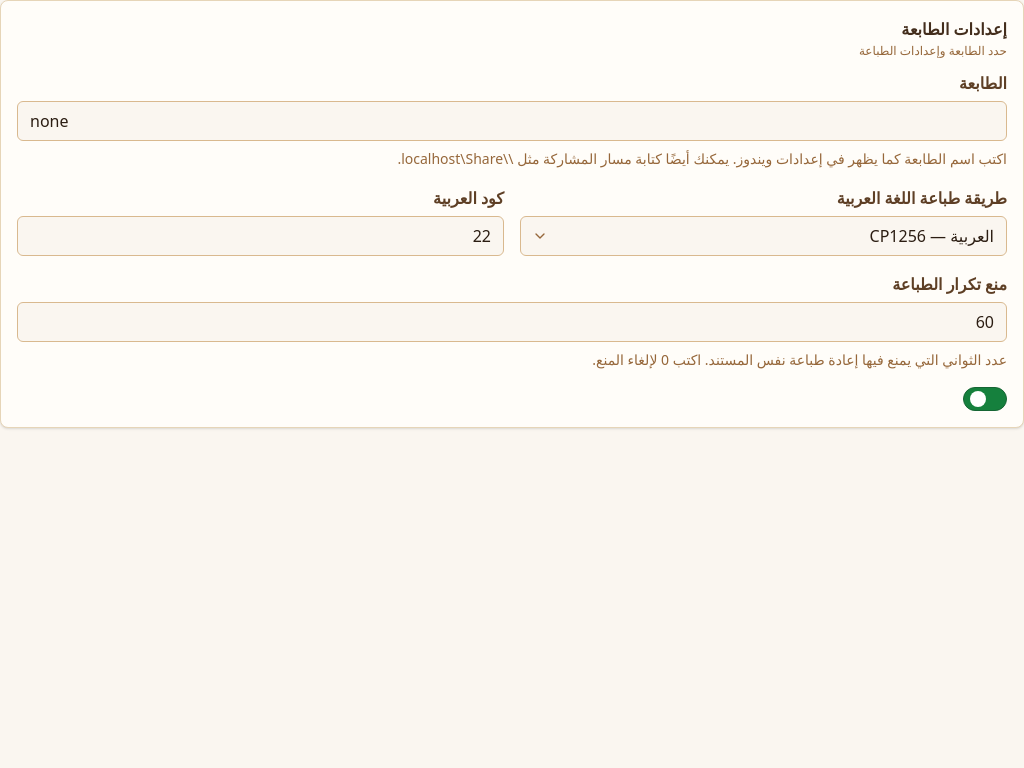
PrinterSettings › reports a refusal and never claims the setting was saved
The width and height of the screenshot is (1024, 768).
Replace the text in the field labelled "الطابعة" with "XP80" at [512, 121], box [17,101,1007,141]
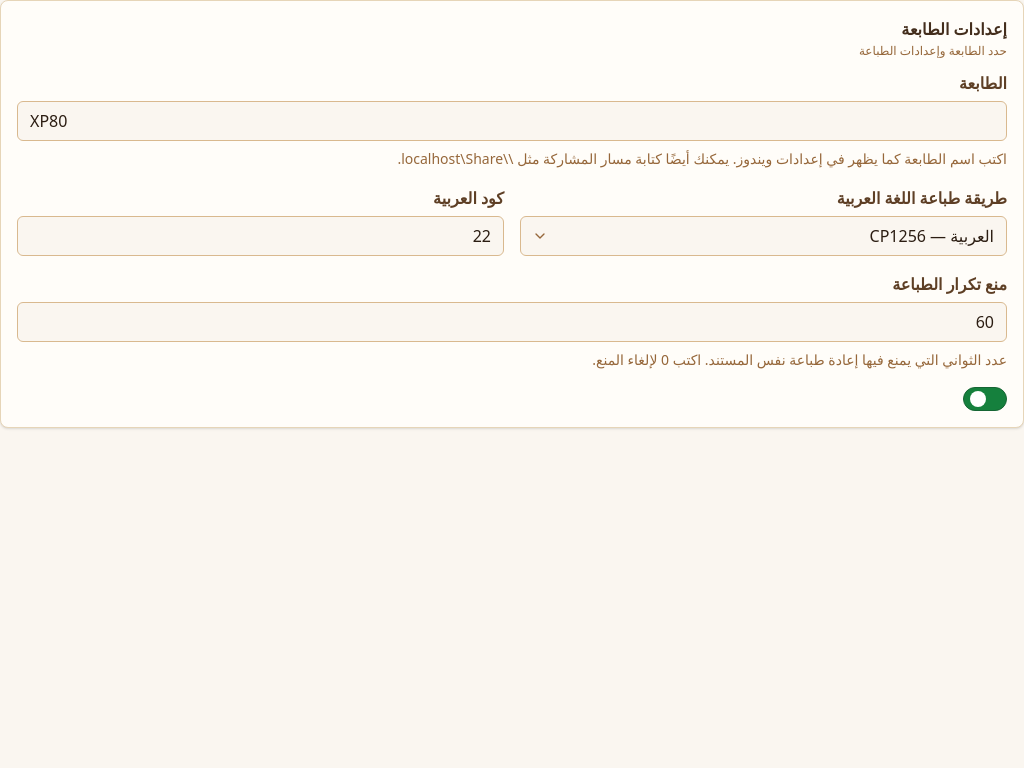
Leave the field labelled "الطابعة", box [17,101,1007,141]
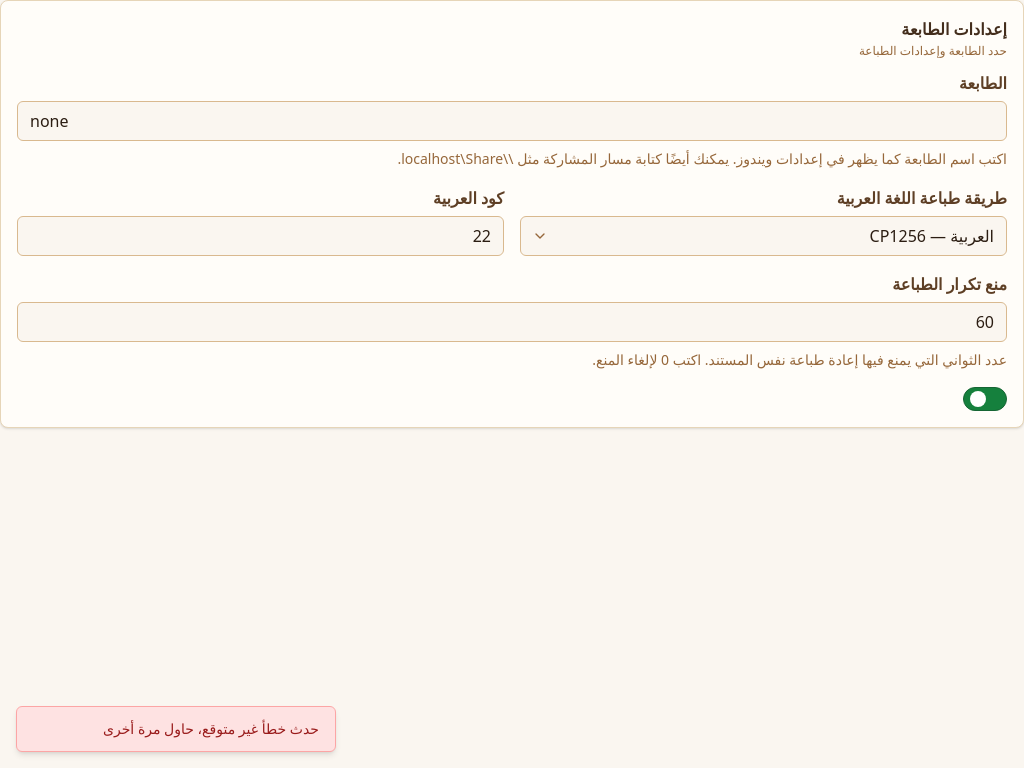
Check: the text "حدث خطأ غير متوقع، حاول مرة أخرى" is shown, box [16,706,336,752]
